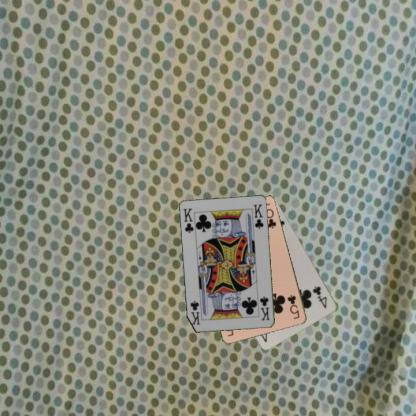4c: (310, 284, 328, 310)
5c: (285, 292, 301, 320)
Kc: (181, 206, 195, 234), (258, 294, 271, 322)
